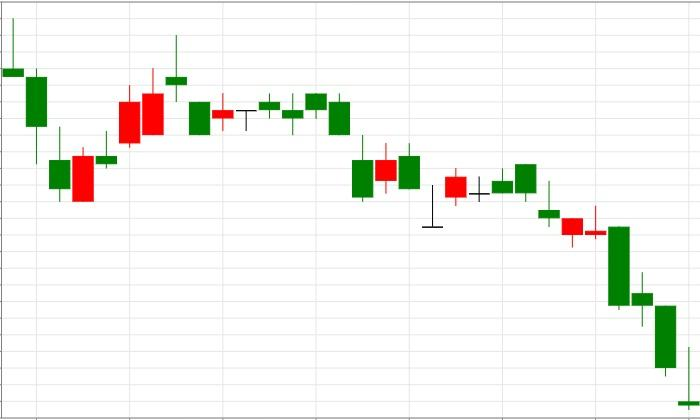evening_star_fall: (72, 35, 210, 202)
